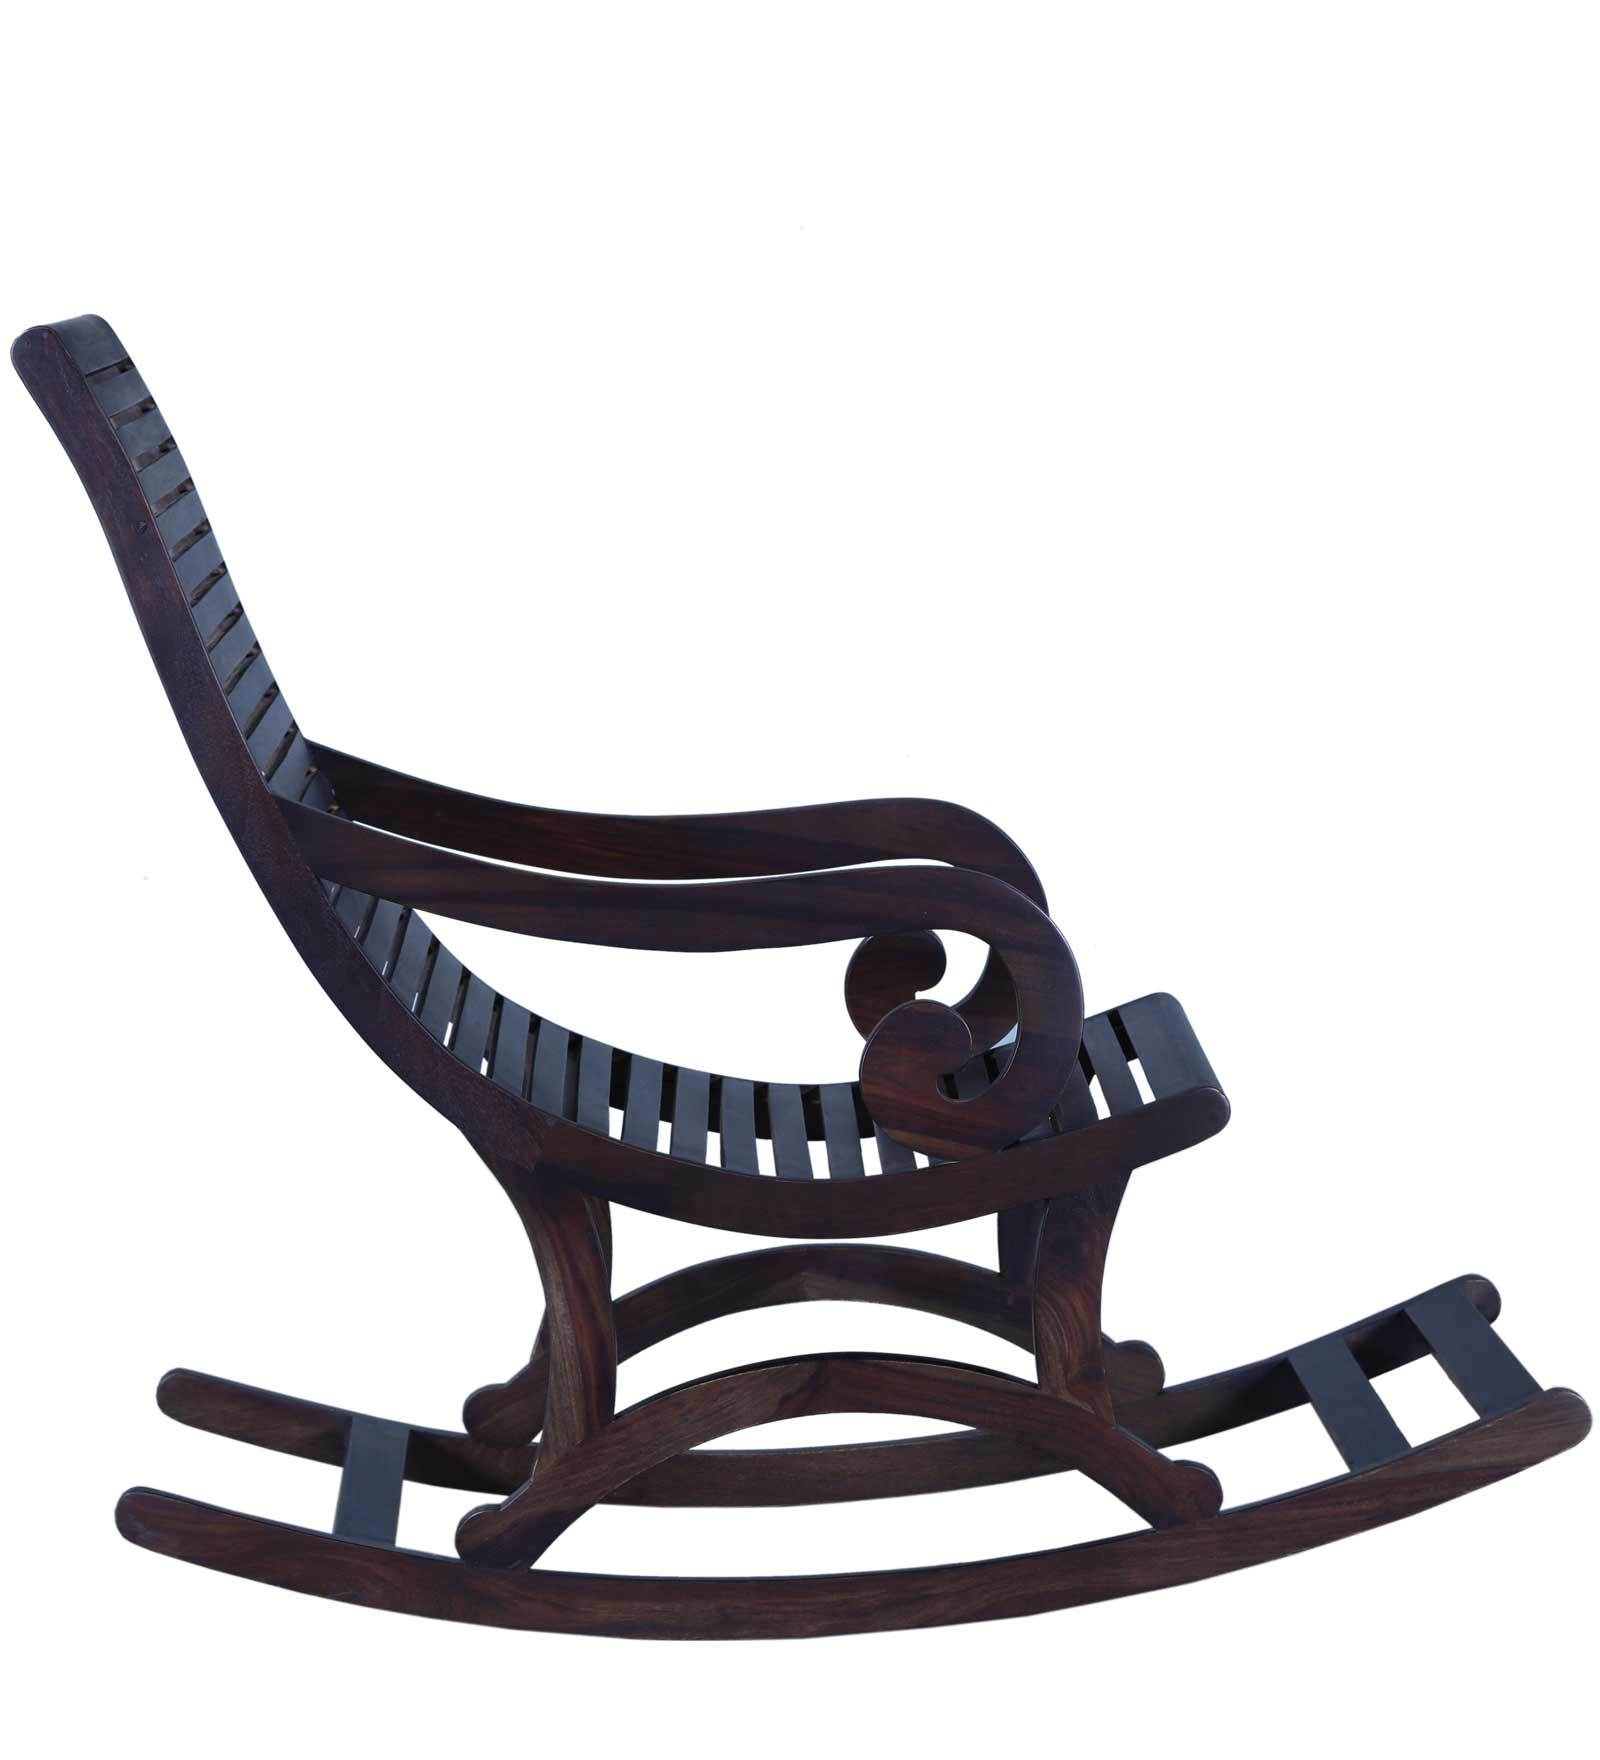Wellesley Rocking Chair in Warm Chestnut Finish by Amberville: (18, 281, 1592, 1731)
